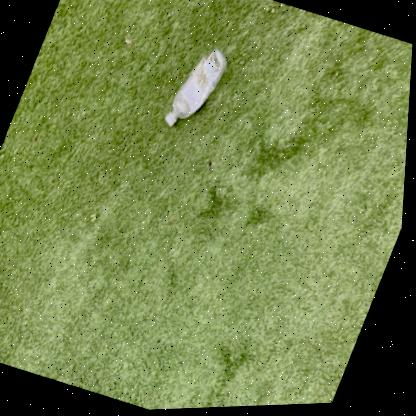Plastic: (167, 51, 227, 128)
